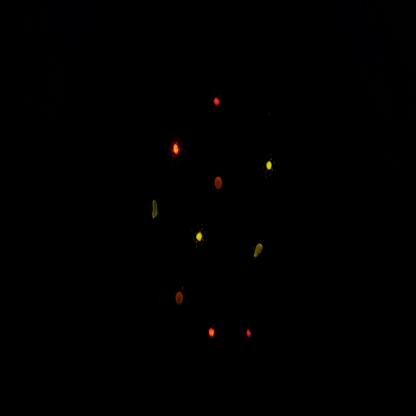PE: (190, 222, 210, 261), (262, 149, 281, 181)
PET: (208, 86, 230, 119), (242, 317, 260, 352)
PP: (144, 187, 170, 238), (248, 232, 271, 271)
PS: (173, 282, 188, 317), (213, 169, 226, 198)
PVC: (169, 130, 186, 170), (207, 318, 220, 349)
